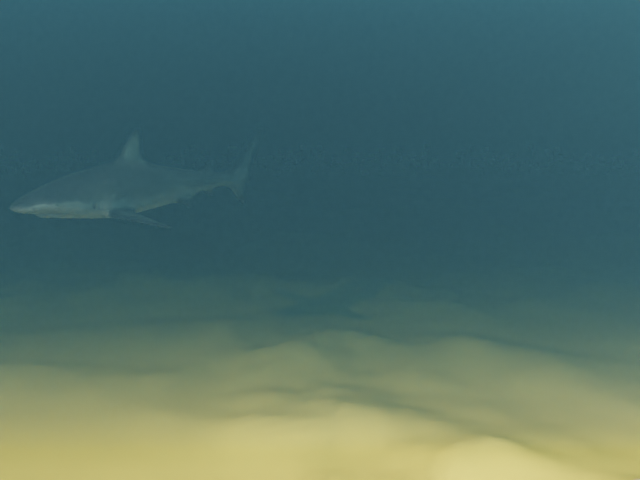Carribean Shark.001: (9, 129, 262, 228)
